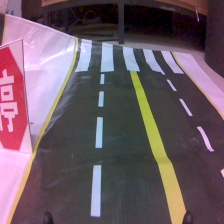stop: (1, 38, 35, 156)
